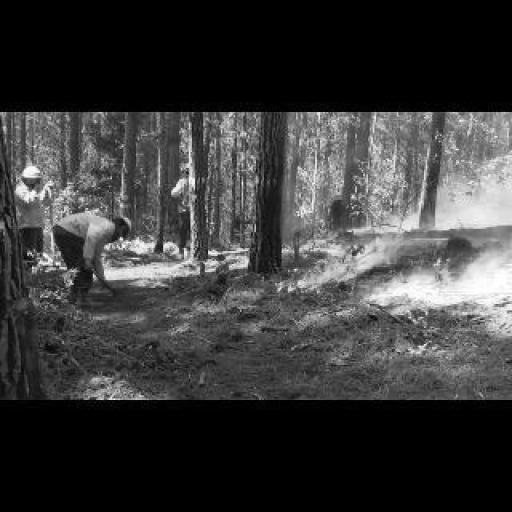smoke: (274, 230, 404, 293), (453, 243, 510, 291), (355, 212, 424, 234), (304, 230, 341, 250), (371, 298, 424, 308), (436, 266, 454, 286)
